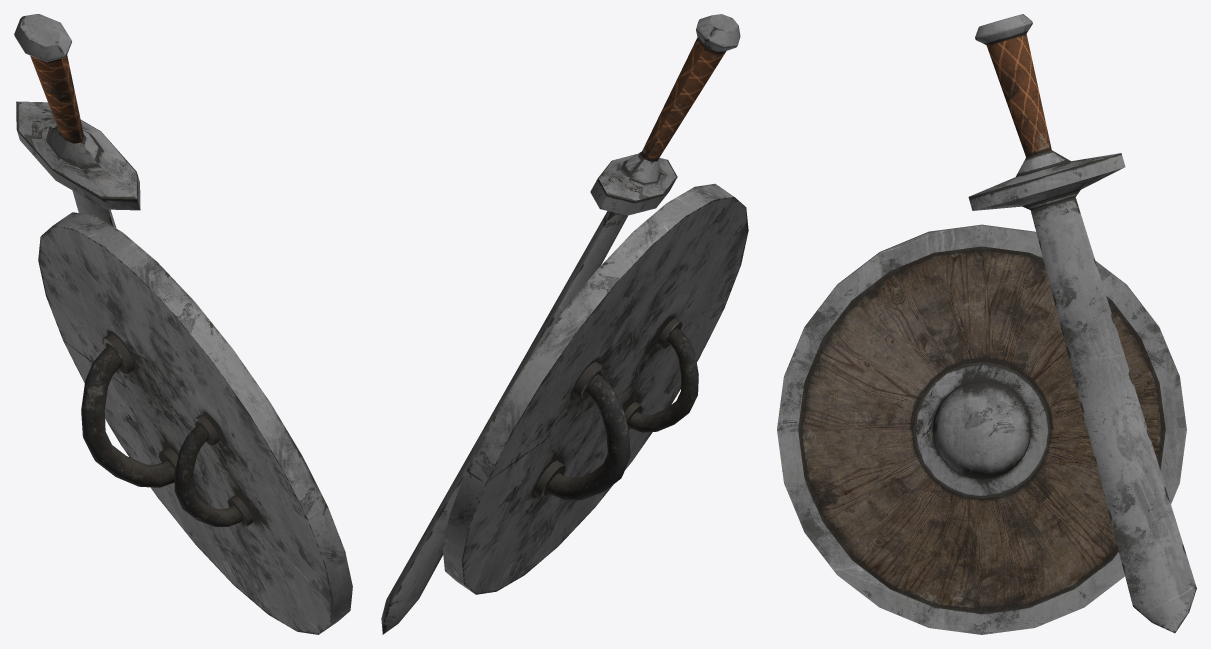
Rendered from ShieldSword.fbx.
The picture shows the model from 3 angles, left to right: view 1: azimuth 30°, elevation 25°; view 2: azimuth 150°, elevation 25°; view 3: azimuth 270°, elevation 25°; orthographic projection. The views are drawn at different scales.
Parts seen in each view (by area): view 1: Sword and shield; view 2: Sword and shield; view 3: Sword and shield.
Boxes of the visible parts, left/top/right/bottom form: Sword and shield: left=14, top=14, right=352, bottom=634; Sword and shield: left=381, top=14, right=748, bottom=634; Sword and shield: left=777, top=14, right=1196, bottom=634.
Size of the model in its own units: 170 by 103 by 238.
